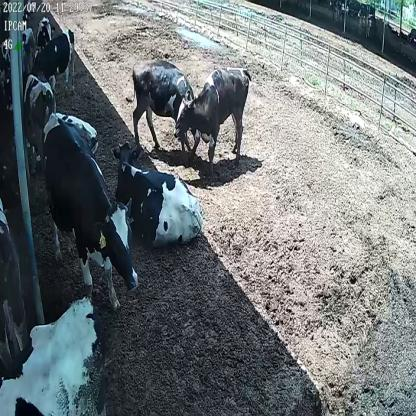cow: (39, 110, 140, 306), (108, 140, 204, 248), (174, 64, 253, 168), (125, 57, 205, 159), (29, 26, 79, 92), (34, 16, 55, 53)
